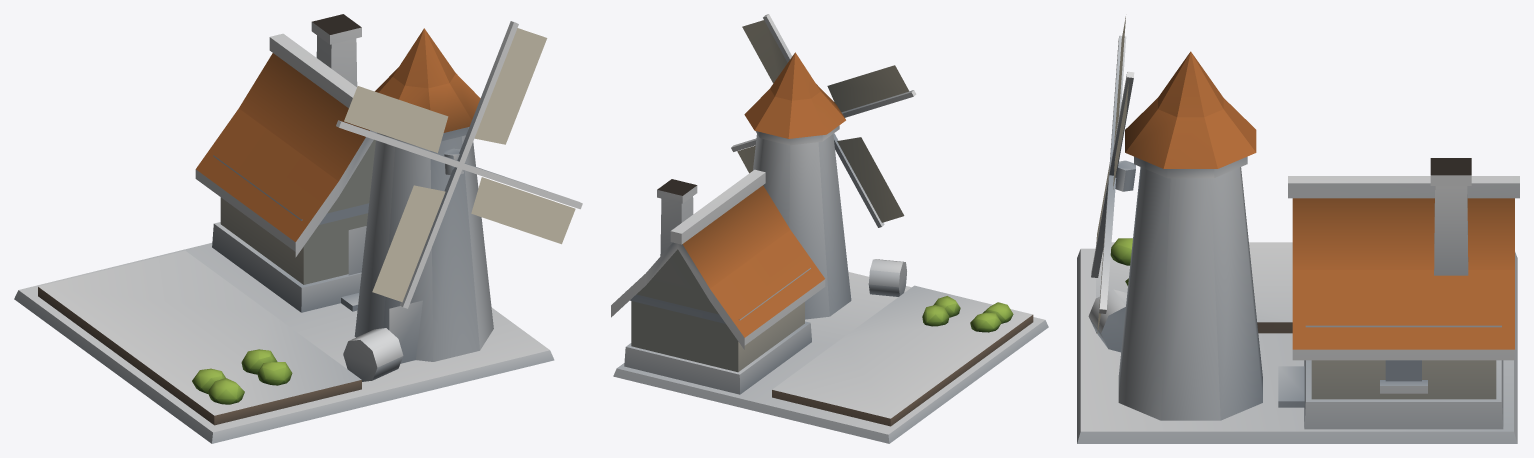
File: farm_t4.glb
The picture shows the model from 3 angles, left to right: view 1: azimuth 30°, elevation 25°; view 2: azimuth 150°, elevation 25°; view 3: azimuth 270°, elevation 25°; orthographic projection. The views are drawn at different scales.
Parts seen in each view (by area): view 1: farm_t4; view 2: farm_t4; view 3: farm_t4.
Boxes of the visible parts, <box> form: farm_t4: <box>14,14,582,443</box>; farm_t4: <box>611,14,1048,443</box>; farm_t4: <box>1077,16,1519,443</box>.
Size of the model in its own units: 2.07 by 1.69 by 1.87.
